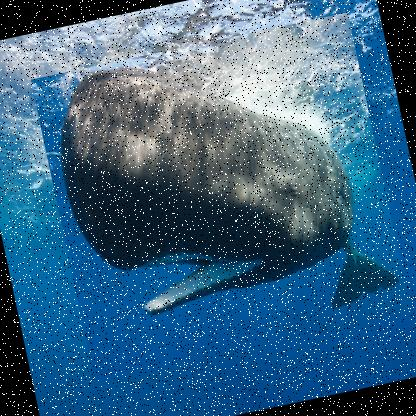sperm_whale: (30, 11, 413, 384)
